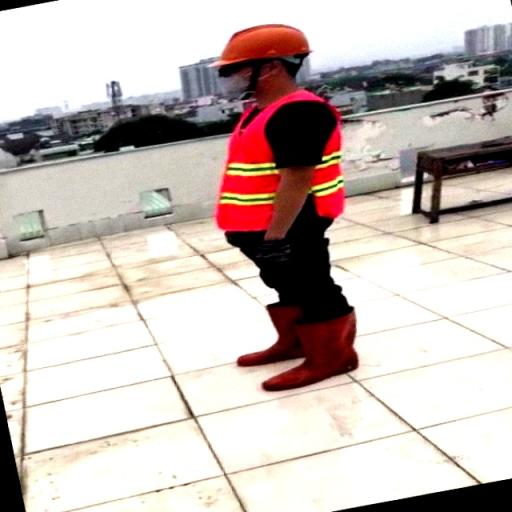Person: (184, 9, 394, 397)
boots: (258, 308, 364, 398), (230, 294, 316, 368)
gloves: (254, 239, 300, 276), (216, 224, 248, 250)
goggles: (206, 45, 284, 76)
helmet: (218, 18, 316, 72)
vest: (213, 90, 352, 236)
